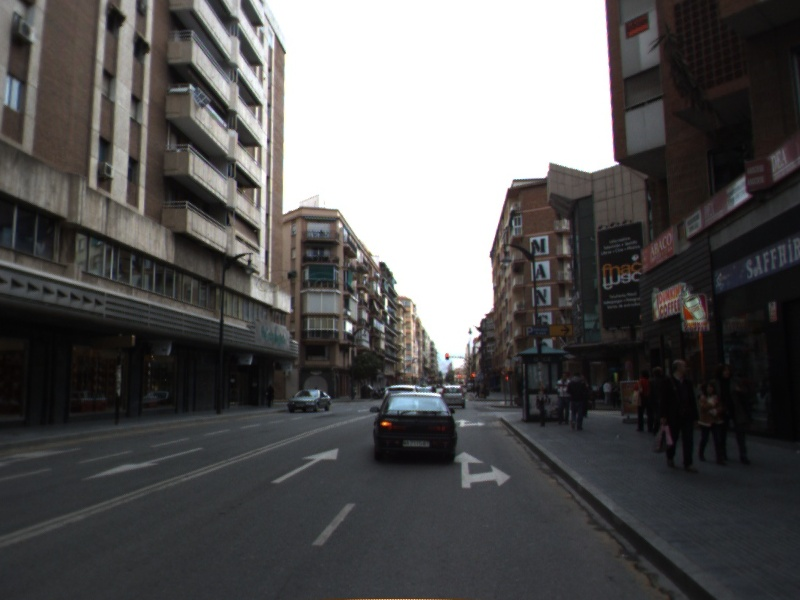STRAIGHT: (268, 446, 341, 485)
STRAIGHT_RIGHT: (450, 449, 514, 490), (454, 417, 488, 429)
